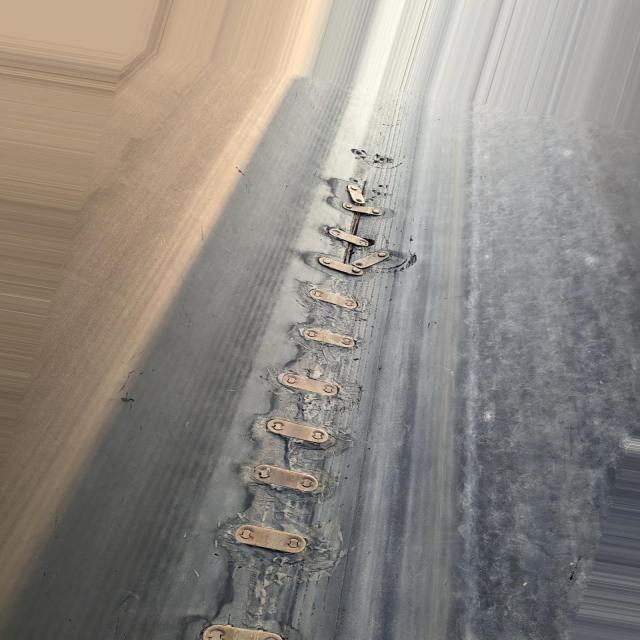patch work: (181, 139, 428, 640)
